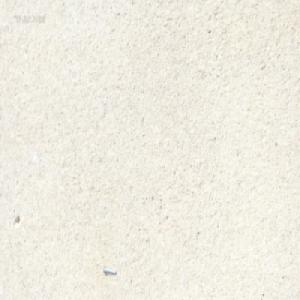Nail: (102, 265, 117, 275)
